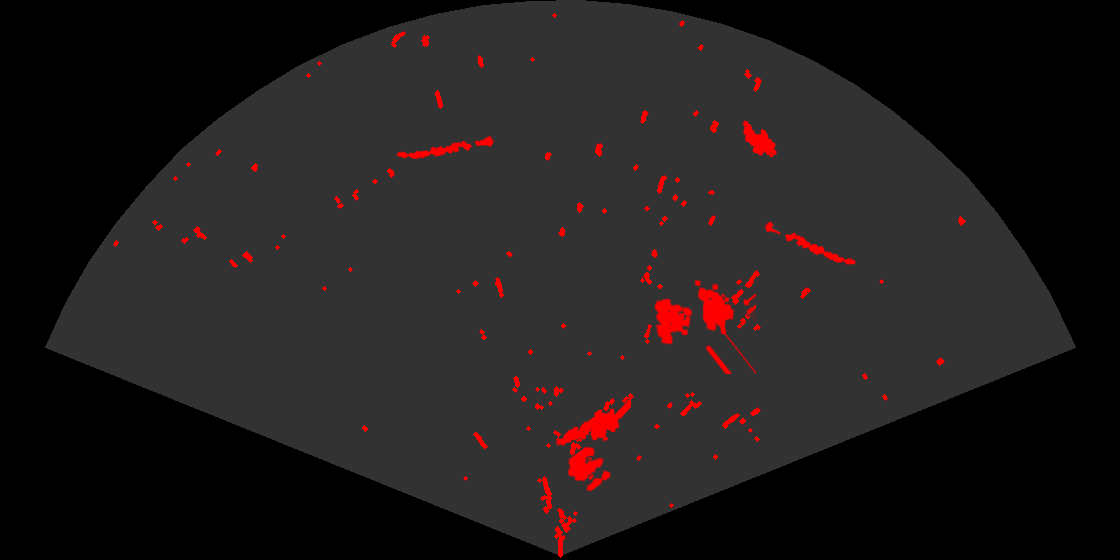AUV: (741, 119, 778, 159)
ball: (566, 445, 612, 493)
cage: (653, 278, 756, 374)
chain: (763, 220, 857, 266), (395, 135, 496, 161)
frogman: (555, 396, 631, 447)
